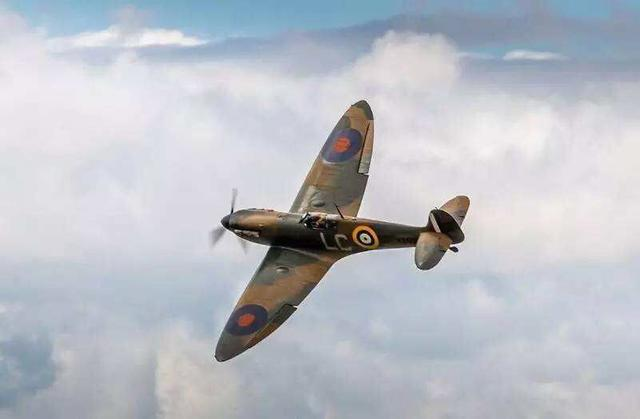airplane: (211, 95, 474, 364)
